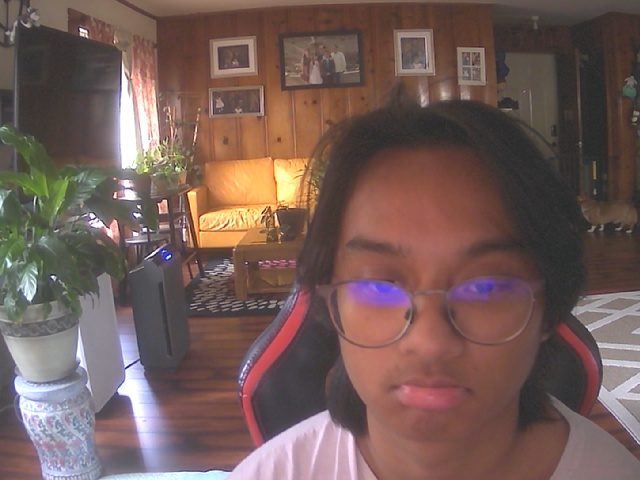sad: (306, 112, 573, 445)
